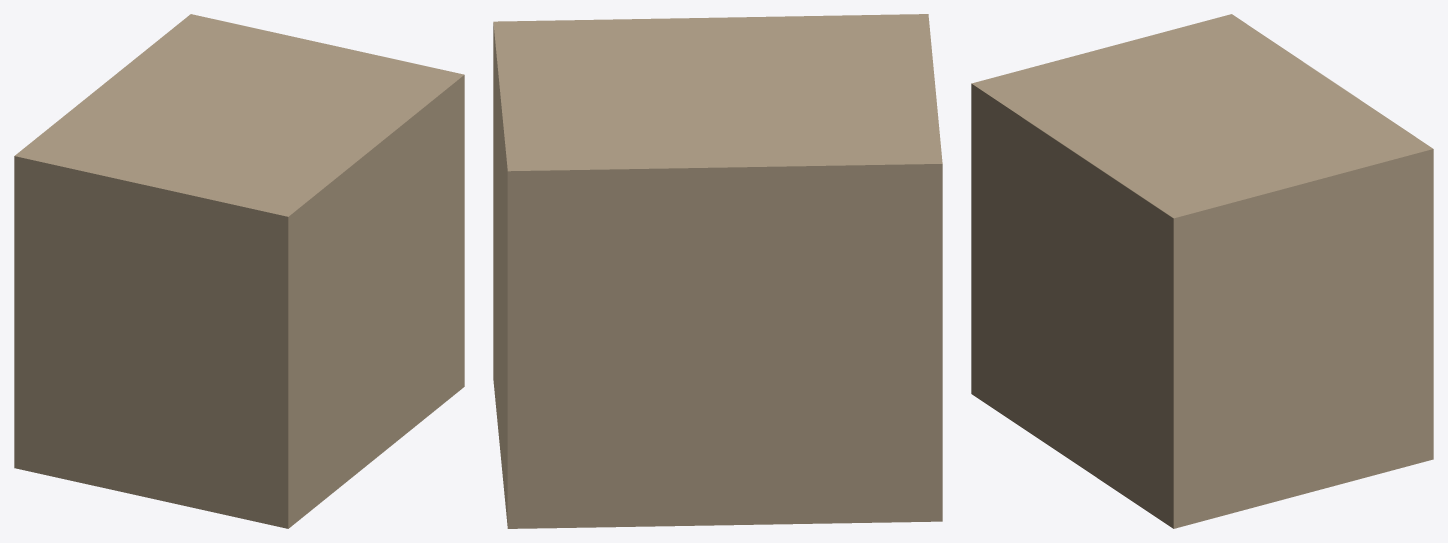
File: bld_101791714.dae
The picture shows the model from 3 angles, left to right: view 1: azimuth 30°, elevation 25°; view 2: azimuth 150°, elevation 25°; view 3: azimuth 270°, elevation 25°; orthographic projection. The views are drawn at different scales.
Parts seen in each view (by area): view 1: bld_101791714; view 2: bld_101791714; view 3: bld_101791714.
Part boxes in pixels (box(x1,y1,x2,y2)): bld_101791714: box(14, 14, 464, 528); bld_101791714: box(493, 14, 942, 528); bld_101791714: box(971, 14, 1433, 528).
Bounding box in the file's own units: 11.3 × 10.79 × 8.
